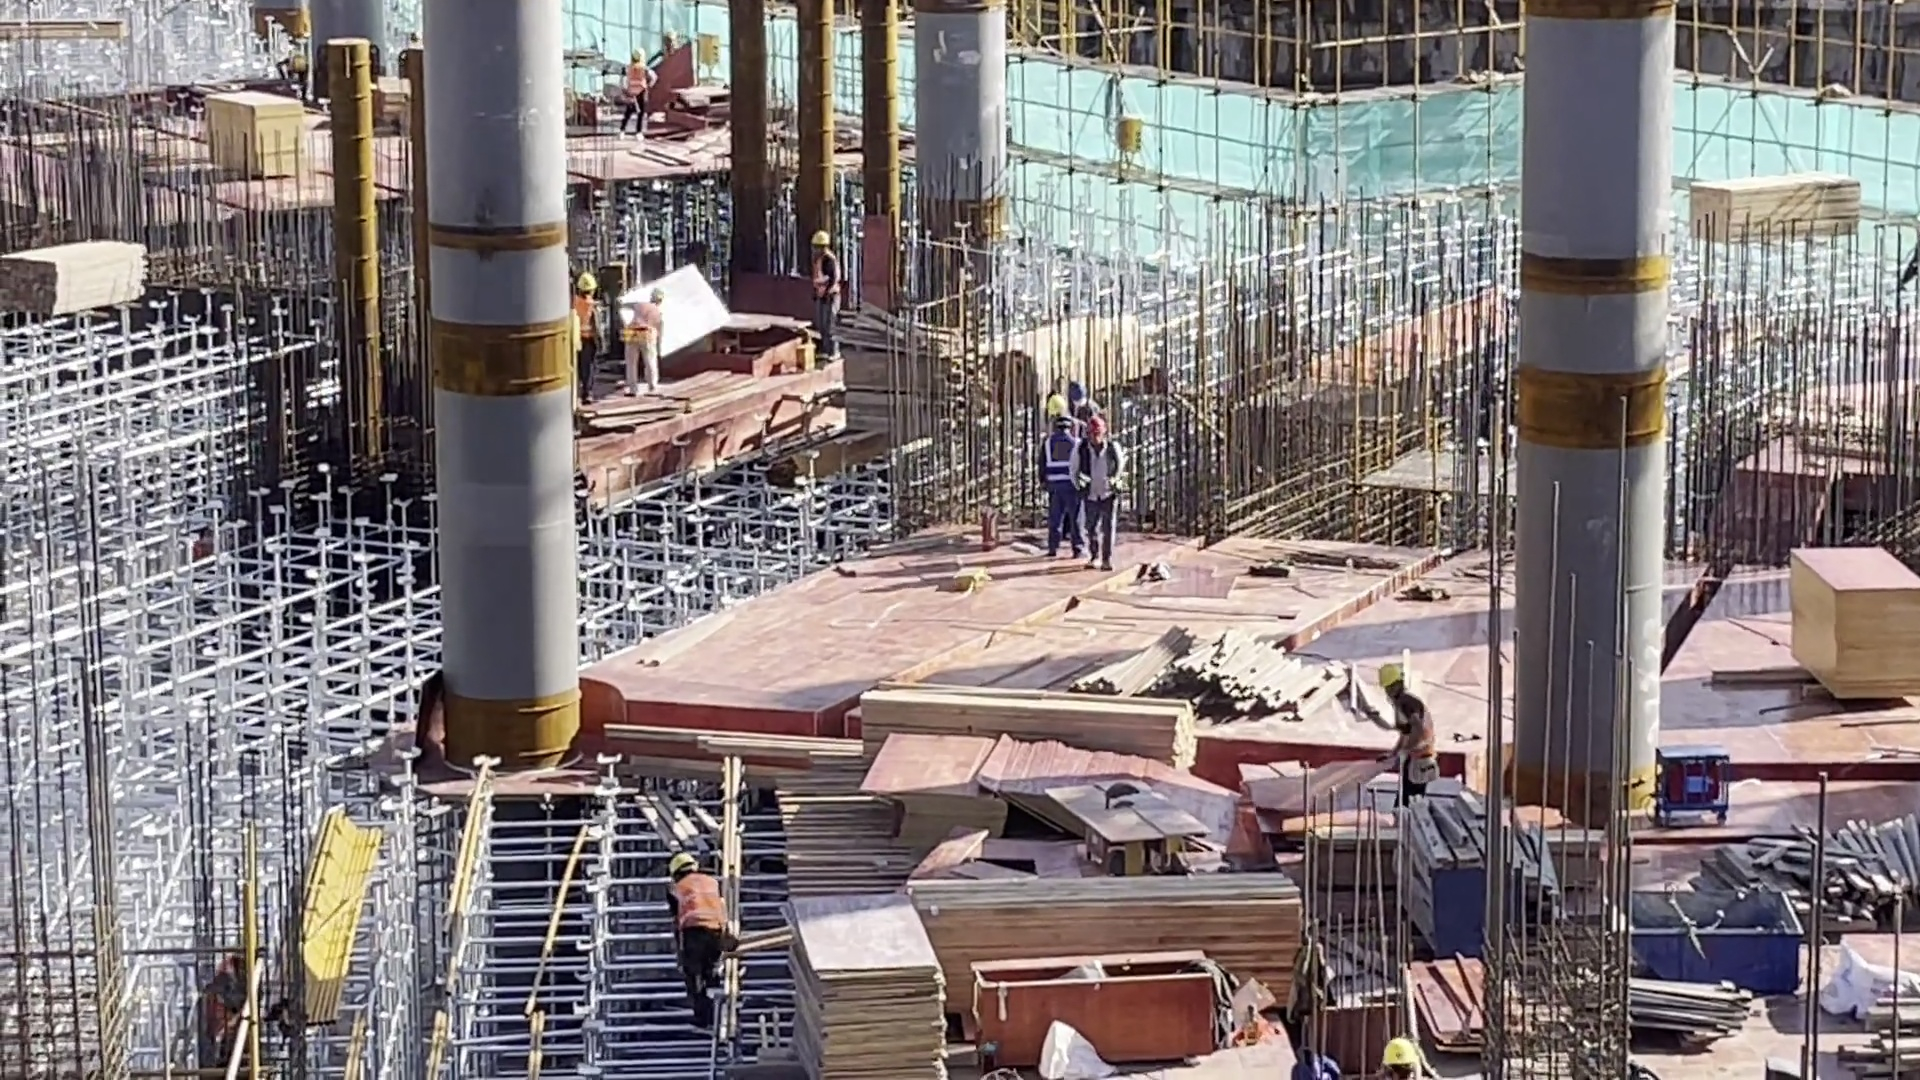board: (786, 892, 947, 1080), (1778, 543, 1920, 697), (872, 734, 1008, 866), (197, 88, 309, 184), (1407, 949, 1493, 1057)
cutter: (1042, 771, 1221, 875), (701, 310, 811, 382)
ebox: (1116, 115, 1148, 171), (696, 29, 721, 80)
helmet: (1380, 1033, 1419, 1066), (1372, 666, 1406, 688), (1080, 420, 1107, 446), (665, 853, 700, 871), (571, 274, 599, 293), (1067, 382, 1089, 405), (804, 230, 831, 247), (1048, 395, 1067, 416), (646, 289, 669, 305)
hopper: (1622, 882, 1796, 995)
person: (661, 848, 749, 1041), (1073, 419, 1126, 575), (1378, 662, 1443, 788), (1036, 410, 1084, 560), (617, 287, 672, 397), (568, 272, 606, 413), (803, 227, 844, 323), (620, 55, 655, 145)
vest: (665, 875, 736, 938), (1393, 707, 1444, 776), (1044, 437, 1079, 494), (803, 254, 843, 297), (627, 309, 659, 355), (571, 297, 598, 342), (628, 66, 650, 96)
wood: (906, 870, 1311, 955), (859, 679, 1201, 768), (1078, 632, 1386, 725), (1696, 810, 1920, 931), (837, 313, 978, 445), (1002, 311, 1170, 404), (1679, 170, 1859, 240), (1, 233, 151, 315), (1837, 978, 1920, 1080)
